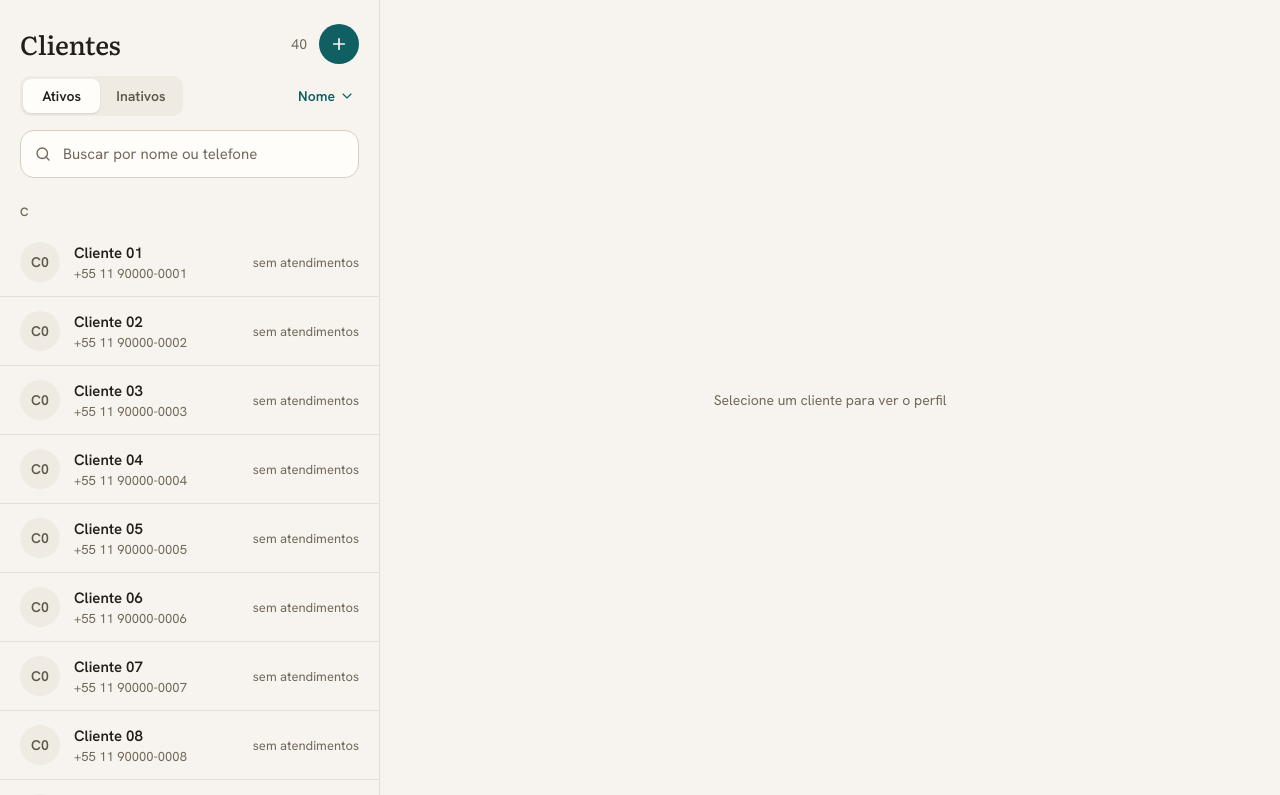
Clientes — scroll infinito › Ordenar é um modal no centro e fecha ao tocar até na opção já marcada
Click the button named "Ordenar por" at (325, 96), box [290, 76, 359, 116]
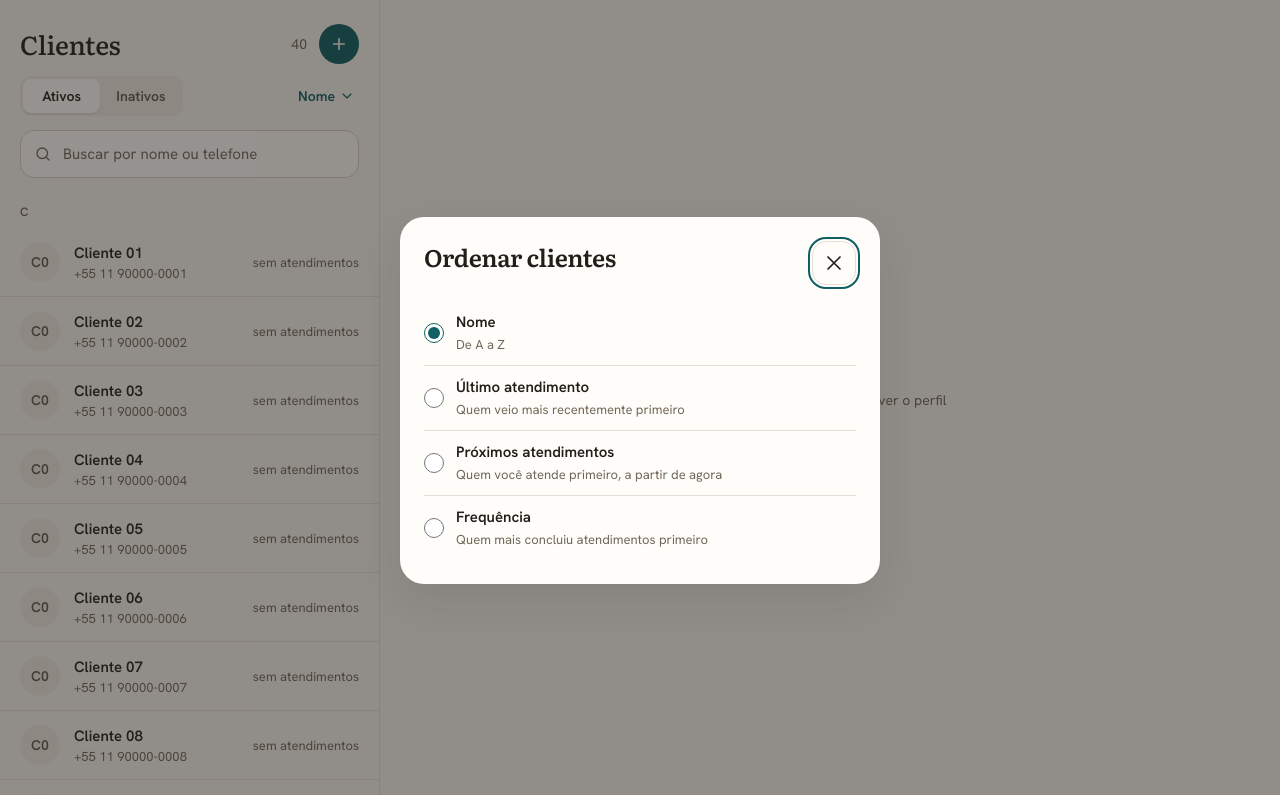
Click the radio button labelled "Nome De A a Z" at (434, 332), box [424, 322, 444, 342]
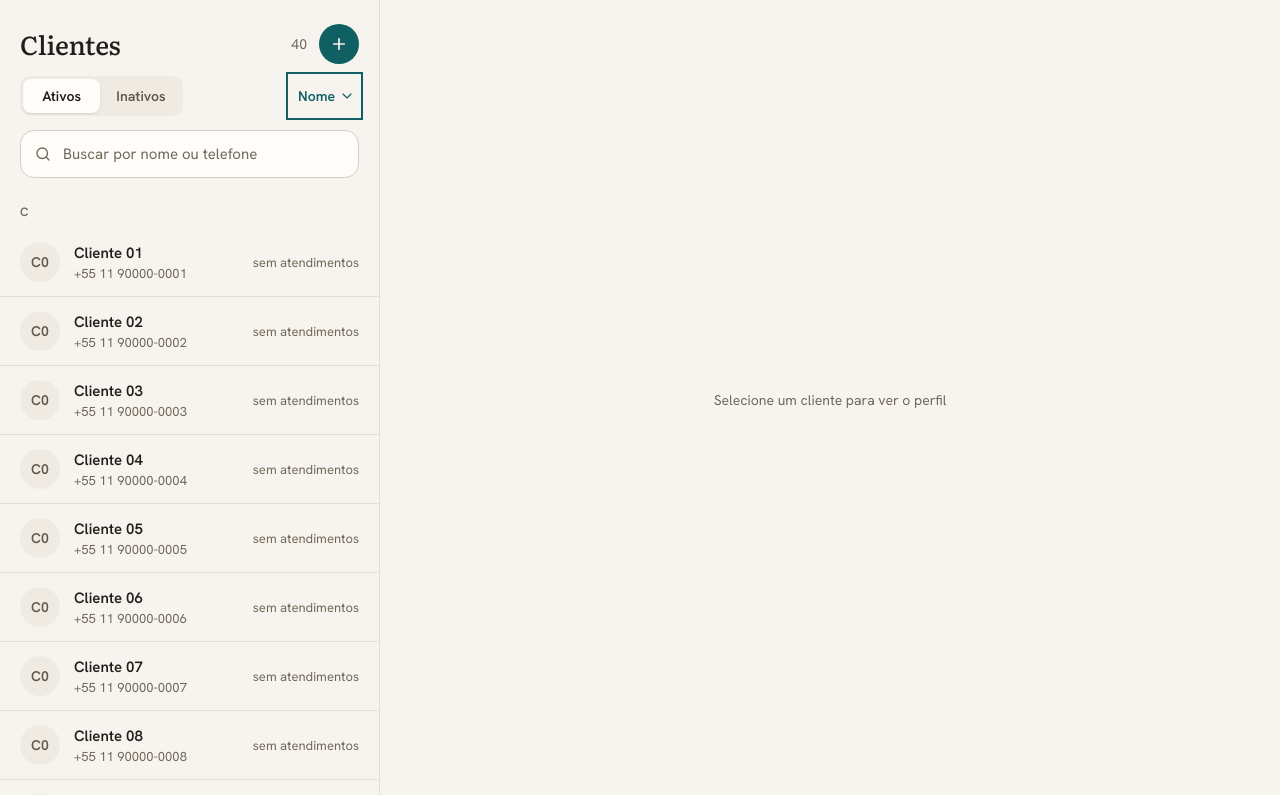
Check: the dialog is gone
Click the button named "Ordenar por" at (325, 96), box [290, 76, 359, 116]
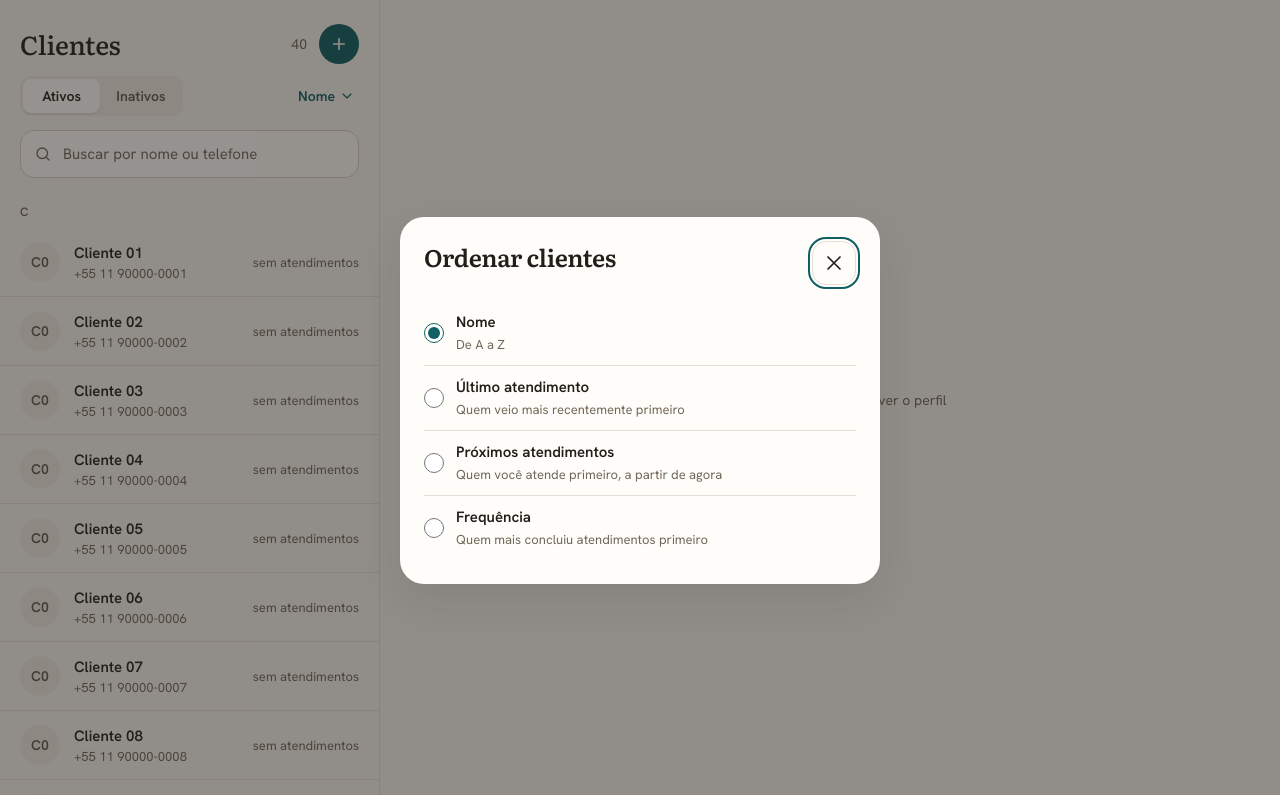
Click the radio button labelled "Próximos atendimentos" at (434, 462), box [424, 452, 444, 472]
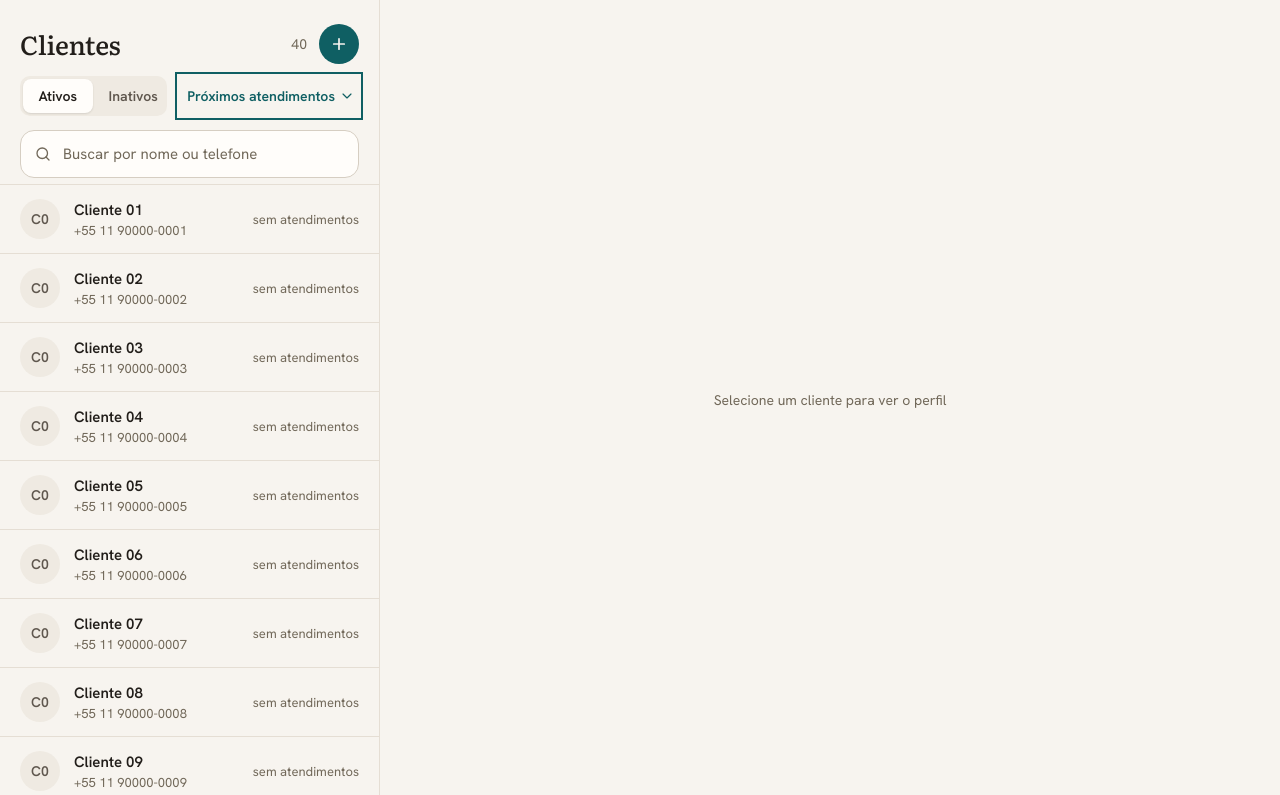
Check: the dialog is gone
